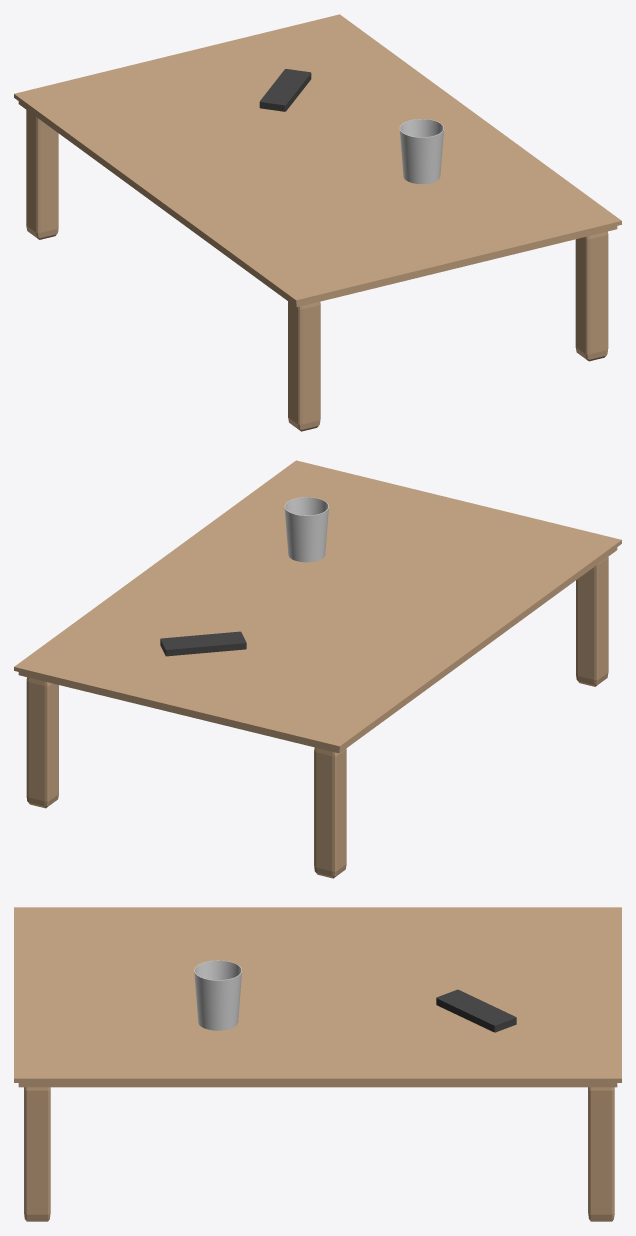
File: Table Tv.glb
3 renders of one model, top to bottom at view 1: azimuth 30°, elevation 25°; view 2: azimuth 150°, elevation 25°; view 3: azimuth 270°, elevation 25°, orthographic. The views are drawn at different scales.
Visible parts, largest first — view 1: Circle; view 2: Circle; view 3: Circle.
Part boxes in pixels (x1,y1,x2,y2): Circle: [14, 14, 621, 431]; Circle: [14, 460, 621, 878]; Circle: [14, 907, 621, 1221].
Bounding box in the file's own units: 2.03 × 1.12 × 3.05.
